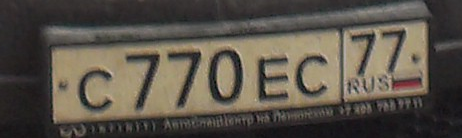character: (122, 49, 164, 114), (165, 47, 206, 111), (205, 47, 247, 106), (77, 66, 119, 116), (256, 51, 293, 104), (293, 50, 332, 99), (346, 30, 378, 78), (379, 29, 410, 73)
